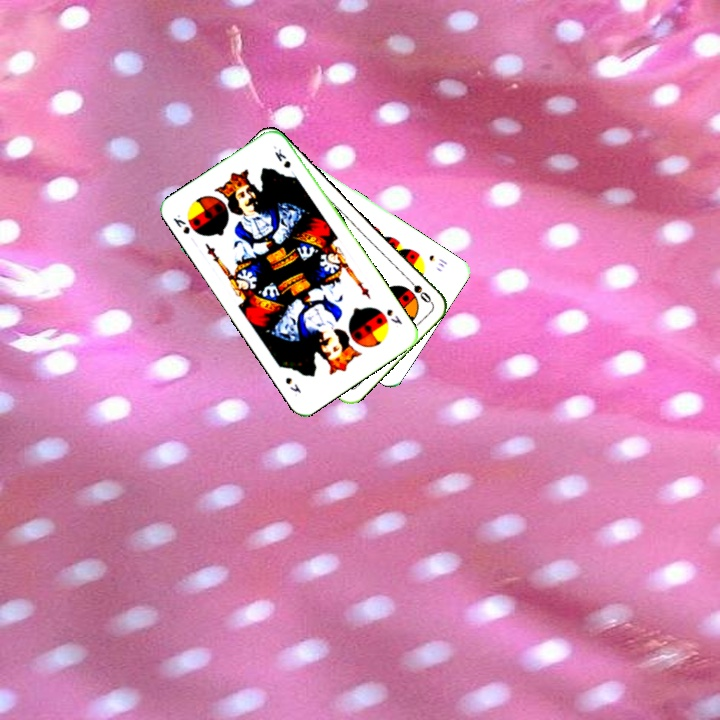S10: (425, 251, 450, 270)
SK: (169, 211, 192, 237), (382, 305, 405, 327)
SO: (402, 273, 434, 305)
